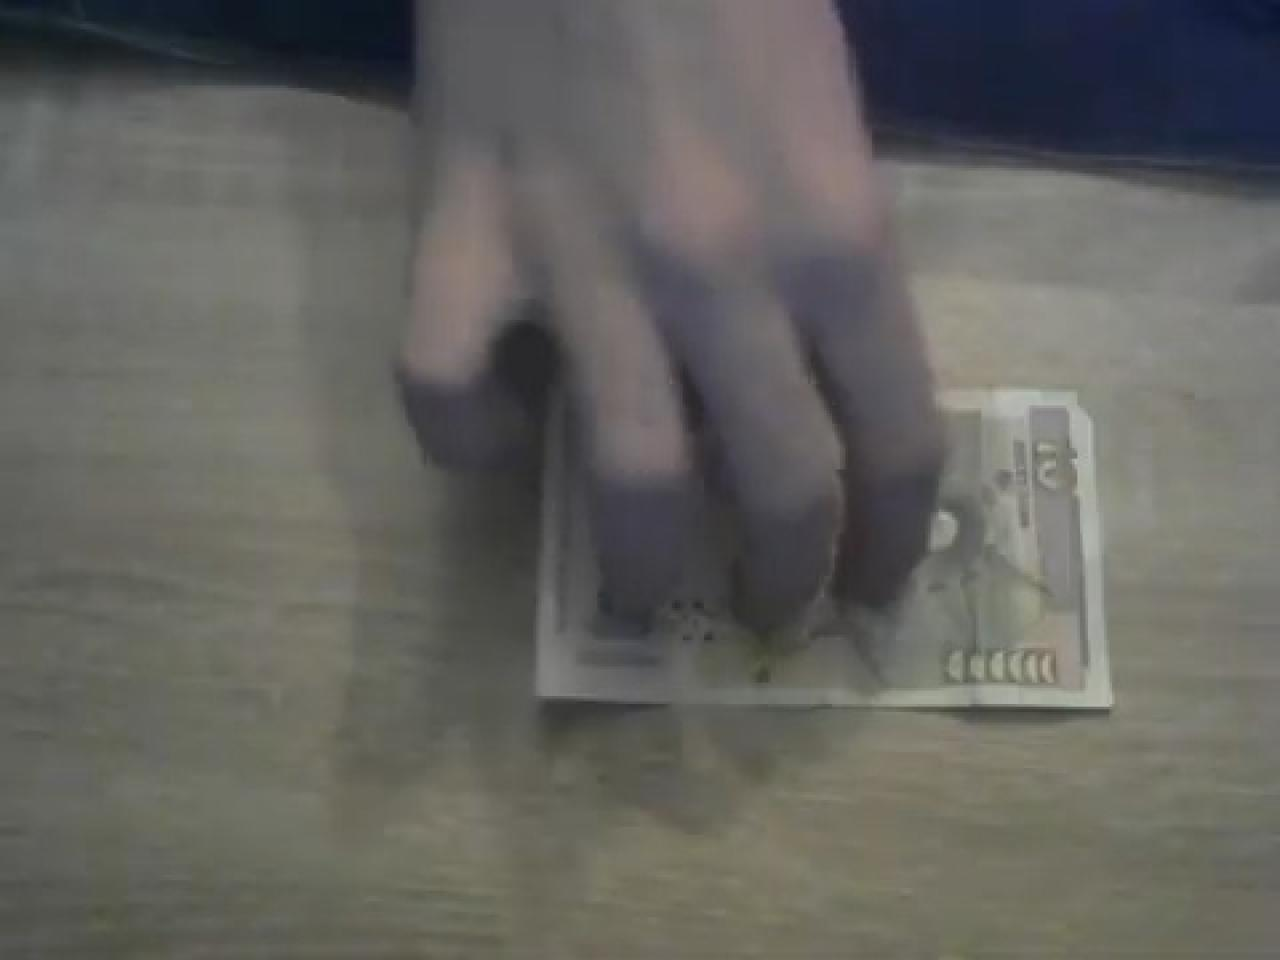10leva: (544, 387, 1107, 715)
